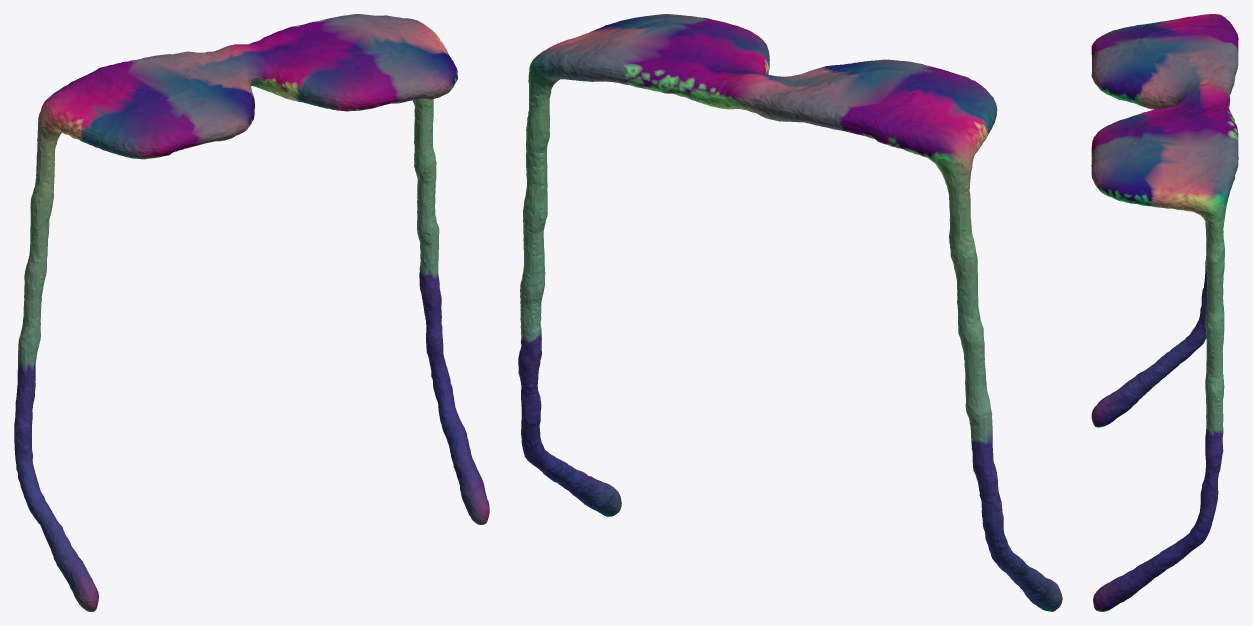
The model's file is glasses-15.off.obj.
The picture shows the model from 3 angles, left to right: view 1: azimuth 30°, elevation 25°; view 2: azimuth 150°, elevation 25°; view 3: azimuth 270°, elevation 25°; orthographic projection. The views are drawn at different scales.
Size of the model in its own units: 0.9462 by 1.01 by 0.3026.
